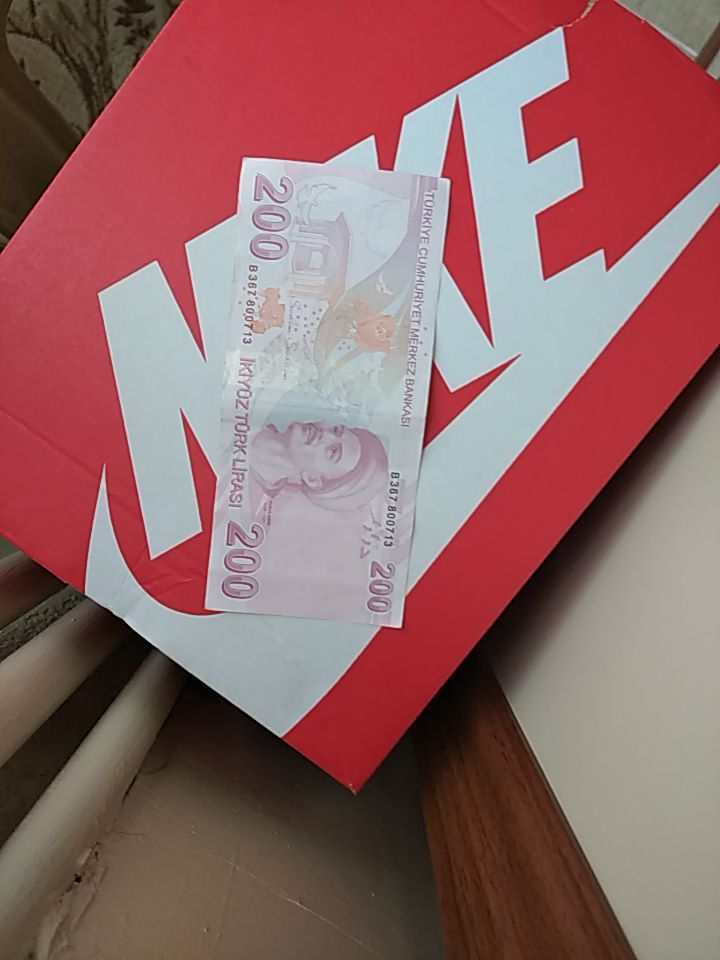200TL: (200, 154, 452, 630)
